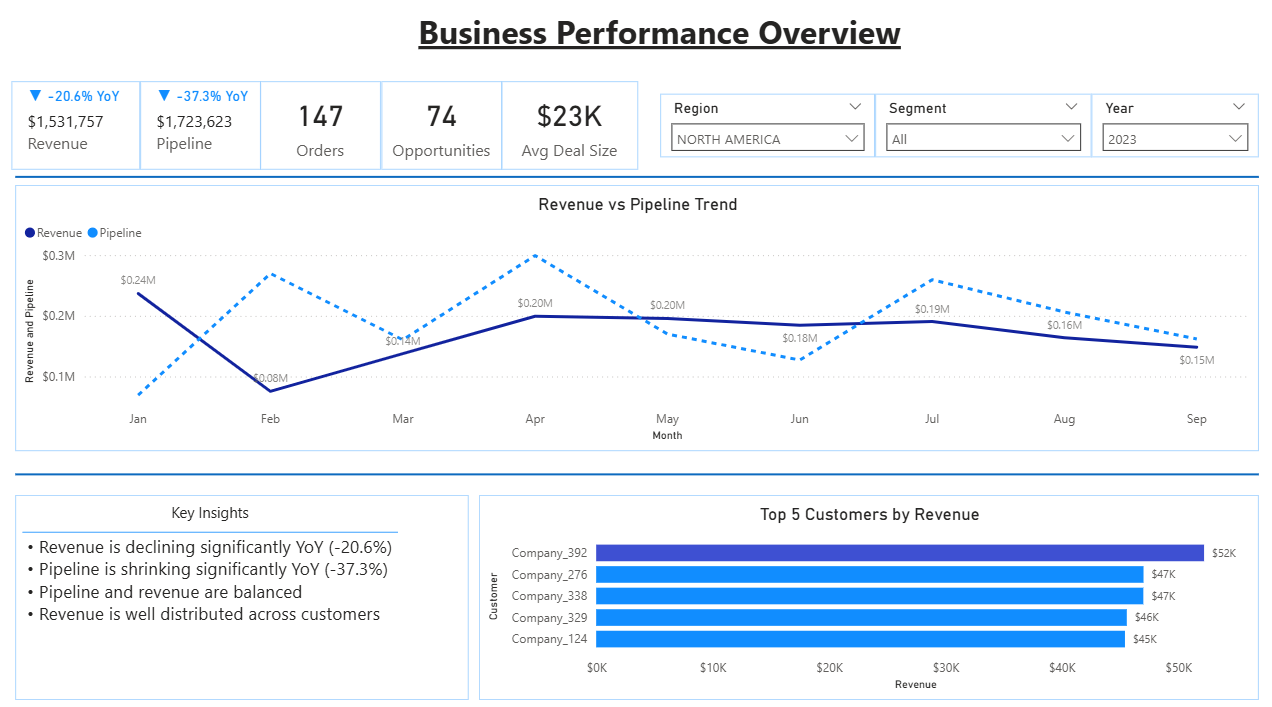

The page's visual inventory and layout, read from the dashboard file:
{"tool":"powerbi","page":{"name":"Business Performance Overview","canvas":[1280,720],"ordinal":0},"visuals":[{"type":"textbox","box":[414.2,19.9,496.3,59.7],"z":0},{"type":"multiRowCard","title":"Revenue","fields":{"Values":["Executive Summary Measures.Total Revenue","Executive Summary Measures.Revenue YoY Label"]},"box":[16.9,96,128,88],"z":0,"group":"g1"},{"type":"card","fields":{"Values":["Measures Table.Total Orders"]},"box":[264.9,96,120,88],"z":1000,"group":"g1"},{"type":"lineChart","title":"Revenue vs Pipeline Trend","fields":{"Y":["Measures Table.Total Revenue","Measures Table.Total Pipeline"],"Category":["Date.Month Name"]},"box":[21.1,199,1237.7,265],"z":1000},{"type":"multiRowCard","fields":{"Values":["Executive Summary Measures.Total Pipeline","Executive Summary Measures.Pipeline YoY Label"]},"box":[144.9,96,120,88],"z":2000,"group":"g1"},{"type":"slicer","fields":{"Values":["Date.Year"]},"box":[1092.2,108.2,166.7,63.4],"z":2000},{"type":"card","fields":{"Values":["Measures Table.Total Opportunities"]},"box":[384.9,96,120,88],"z":3000,"group":"g1"},{"type":"slicer","fields":{"Values":["Customer Master.Standardized Region"]},"box":[663,108.2,214,63.4],"z":3000},{"type":"card","fields":{"Values":["Measures Table.Avg Deal Size"]},"box":[504.9,96,136,88],"z":4000,"group":"g1"},{"type":"tableEx","fields":{"Values":["Measures Table.Executive Summary Text"]},"box":[21.1,507.5,451.6,204],"z":4000},{"type":"barChart","title":"Top 5 Customers by Revenue","fields":{"Category":["Customers.Customer Name"],"Y":["Measures Table.Total Revenue"]},"box":[482.7,507.5,776.2,204],"z":5000},{"type":"slicer","fields":{"Values":["Customers.Segment"]},"box":[877,108.2,215.2,63.4],"z":6000},{"type":"group","id":"g1","title":"Group 3","box":[16.9,96,624,80],"z":7000},{"type":"shape","box":[21.1,466.5,1237.7,41.1],"z":8000},{"type":"shape","box":[21.1,171.7,1237.7,38.6],"z":9000}]}

Visuals, with their boxes in screenshot pixels (x1, y1, x2, y2), scaled from the page's 1280x720 canvas onto the 1272x707 screenshot:
textbox: box(412, 20, 905, 78)
"Revenue" multiRowCard: box(17, 94, 144, 181)
card - Measures Table.Total Orders: box(263, 94, 382, 181)
"Revenue vs Pipeline Trend" lineChart: box(21, 195, 1251, 456)
multiRowCard - Executive Summary Measures.Total Pipeline x Executive Summary Measures.Pipeline YoY Label: box(144, 94, 263, 181)
slicer - Date.Year: box(1085, 106, 1251, 169)
card - Measures Table.Total Opportunities: box(382, 94, 502, 181)
slicer - Customer Master.Standardized Region: box(659, 106, 872, 169)
card - Measures Table.Avg Deal Size: box(502, 94, 637, 181)
tableEx - Measures Table.Executive Summary Text: box(21, 498, 470, 699)
"Top 5 Customers by Revenue" barChart: box(480, 498, 1251, 699)
slicer - Customers.Segment: box(872, 106, 1085, 169)
"Group 3" group: box(17, 94, 637, 173)
shape: box(21, 458, 1251, 498)
shape: box(21, 169, 1251, 207)
